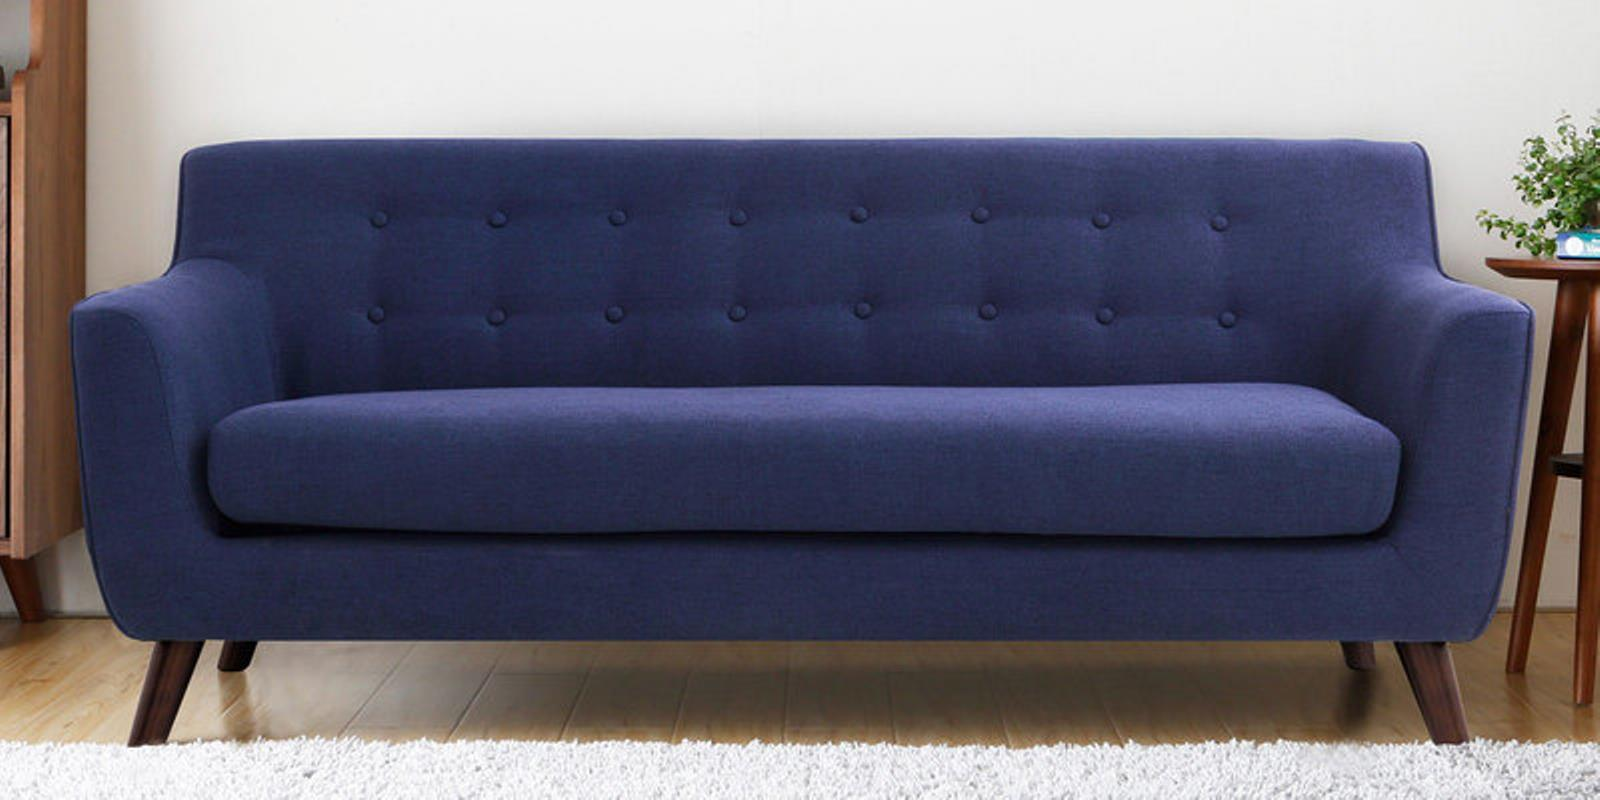Bogota Three Seater Sofa in Blue Colour by CasaCraft: (61, 122, 1549, 731)
